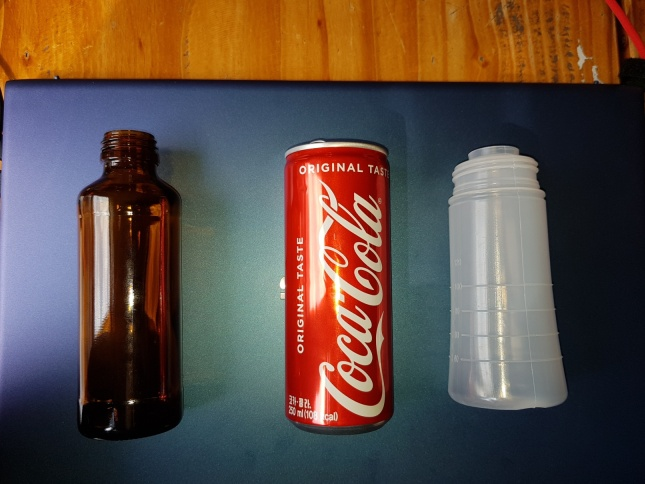Can: (280, 136, 397, 437)
Glass: (74, 128, 186, 442)
Plastic: (439, 143, 572, 415)
